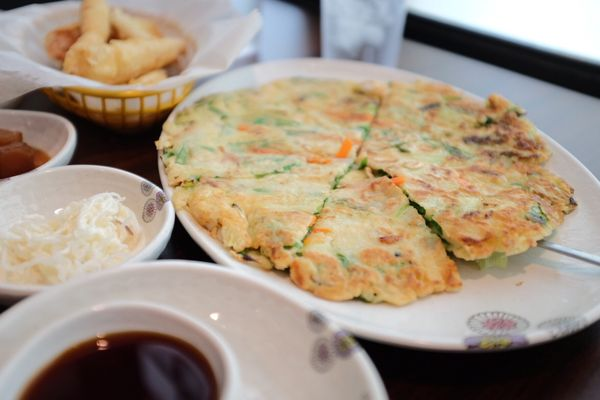pizza: (320, 0, 410, 67)
sushi: (1, 259, 387, 394), (0, 0, 262, 133), (0, 163, 174, 307), (0, 108, 78, 184)
